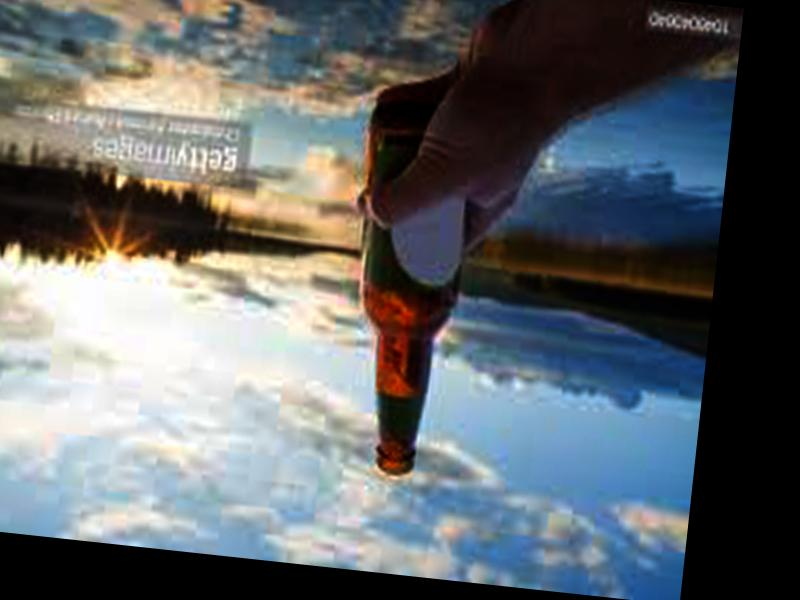Beer: (327, 102, 480, 483)
